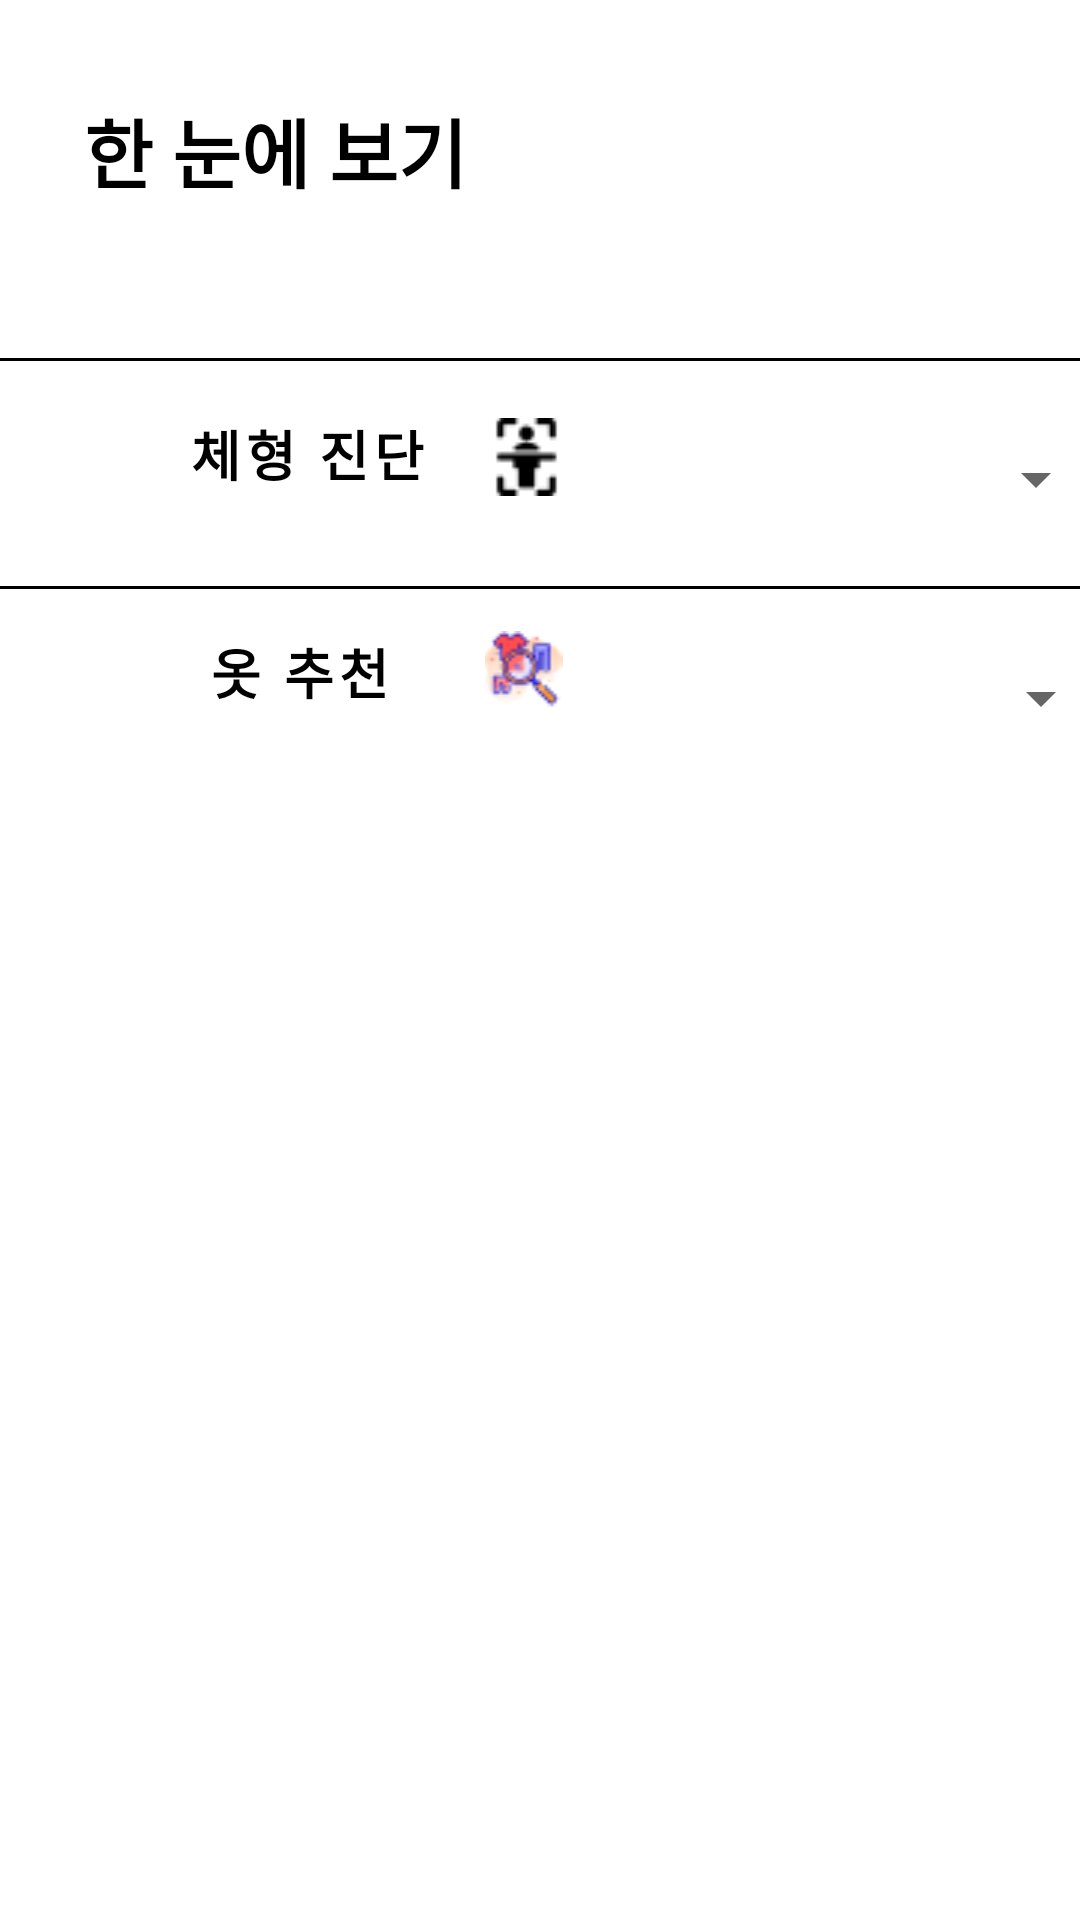

Screen size 1080x1920. Icon name, then its center in pixels as [x,y]:
body scan: [526,457]
clothes: [524,669]
